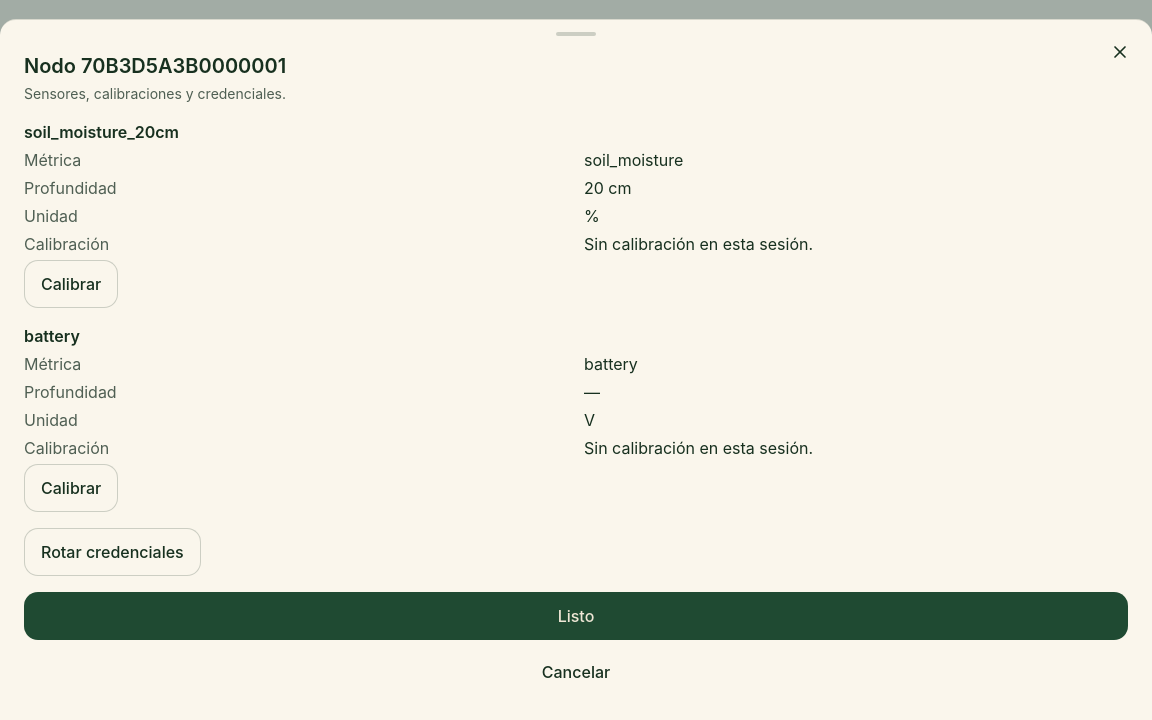
Scenario: NodeDetailSheet › confirms before rotating and shows the new password once
Check: the text "soil_moisture_20cm" is shown, box [24,122,179,142]
Click the button "Rotar credenciales".
click(112, 552)  # box [24,528,201,576]
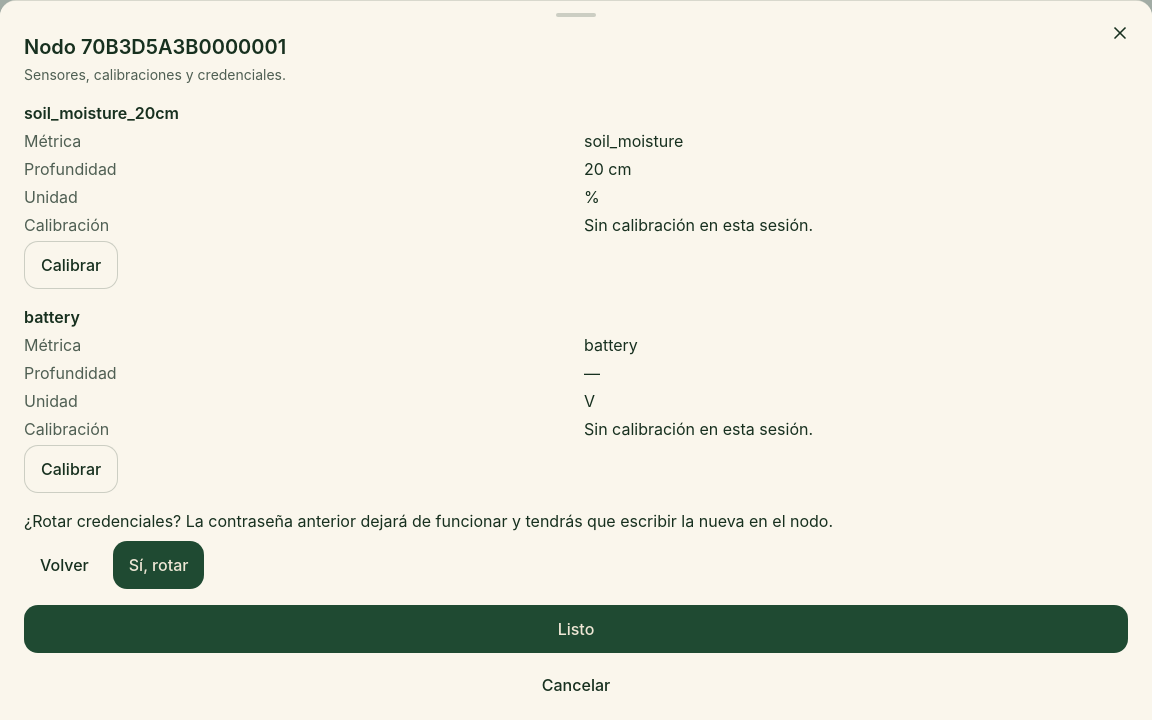
Click the button "Sí, rotar".
click(159, 565)  # box [113,541,204,589]
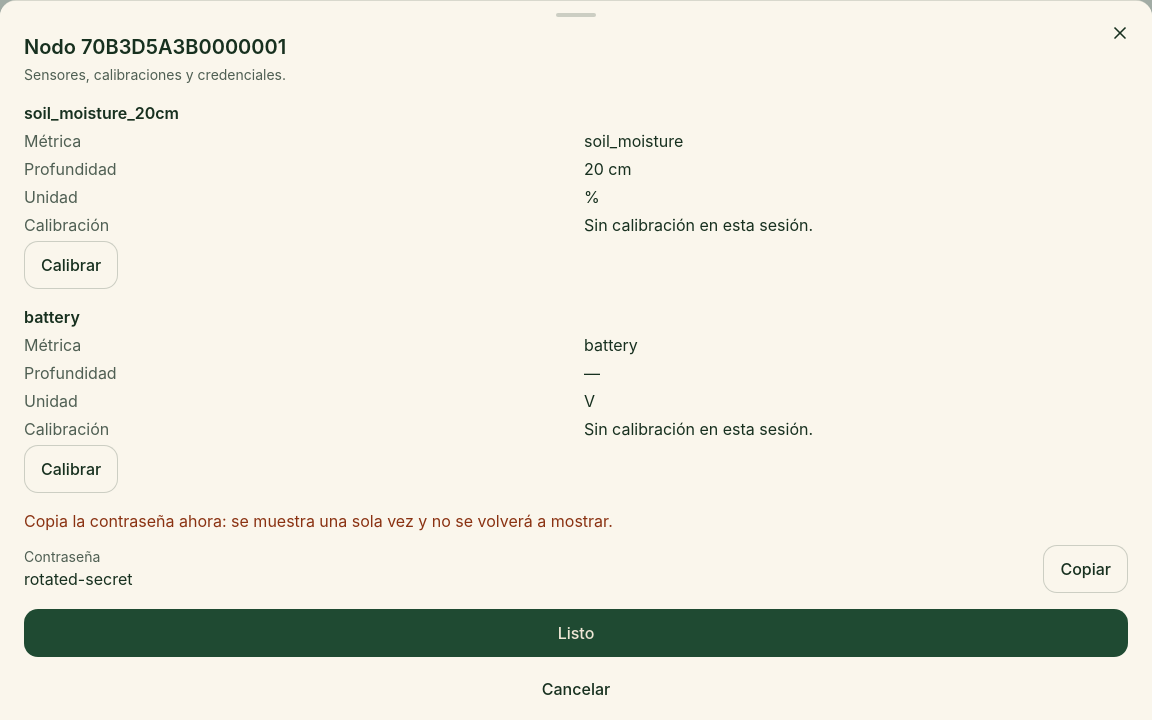
Check: the text "rotated-secret" is shown, box [24,567,132,591]
Check: the text "no se volverá a mostrar" is shown, box [24,511,613,531]
